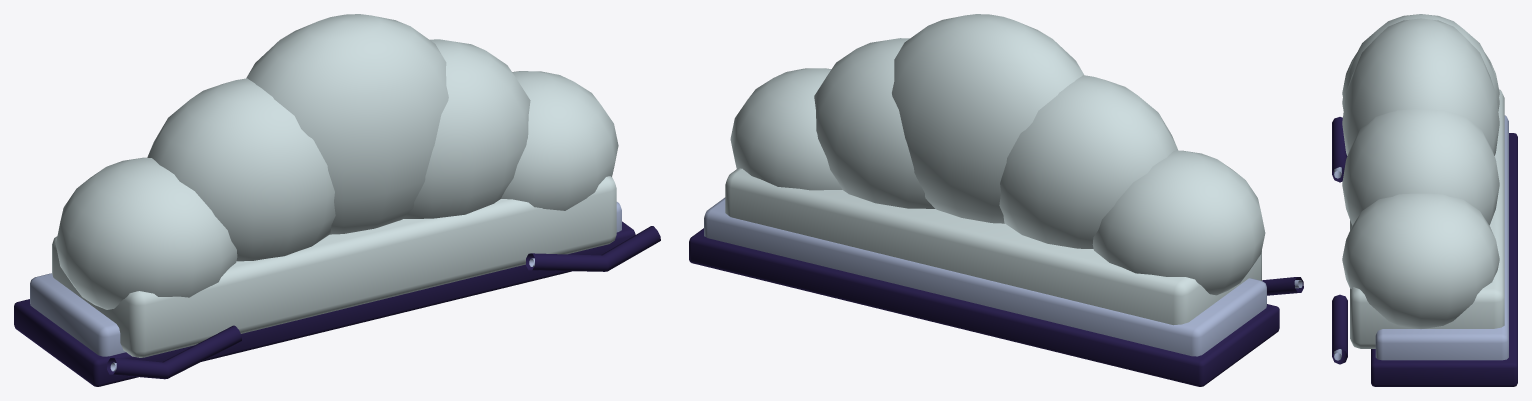
File: r017_sky_lagoon_cloud_family_cloud_03.glb
The picture shows the model from 3 angles, left to right: view 1: azimuth 30°, elevation 25°; view 2: azimuth 150°, elevation 25°; view 3: azimuth 270°, elevation 25°; orthographic projection. The views are drawn at different scales.
Visible parts, largest first — view 1: r017_sky_lagoon_cloud_family_cloud_03.001; view 2: r017_sky_lagoon_cloud_family_cloud_03.001; view 3: r017_sky_lagoon_cloud_family_cloud_03.001.
Part boxes in pixels (x1,y1,x2,y2): r017_sky_lagoon_cloud_family_cloud_03.001: (14, 14, 660, 386); r017_sky_lagoon_cloud_family_cloud_03.001: (689, 14, 1303, 386); r017_sky_lagoon_cloud_family_cloud_03.001: (1332, 14, 1517, 386).
Size of the model in its own units: 5.25 by 2.55 by 1.75.
